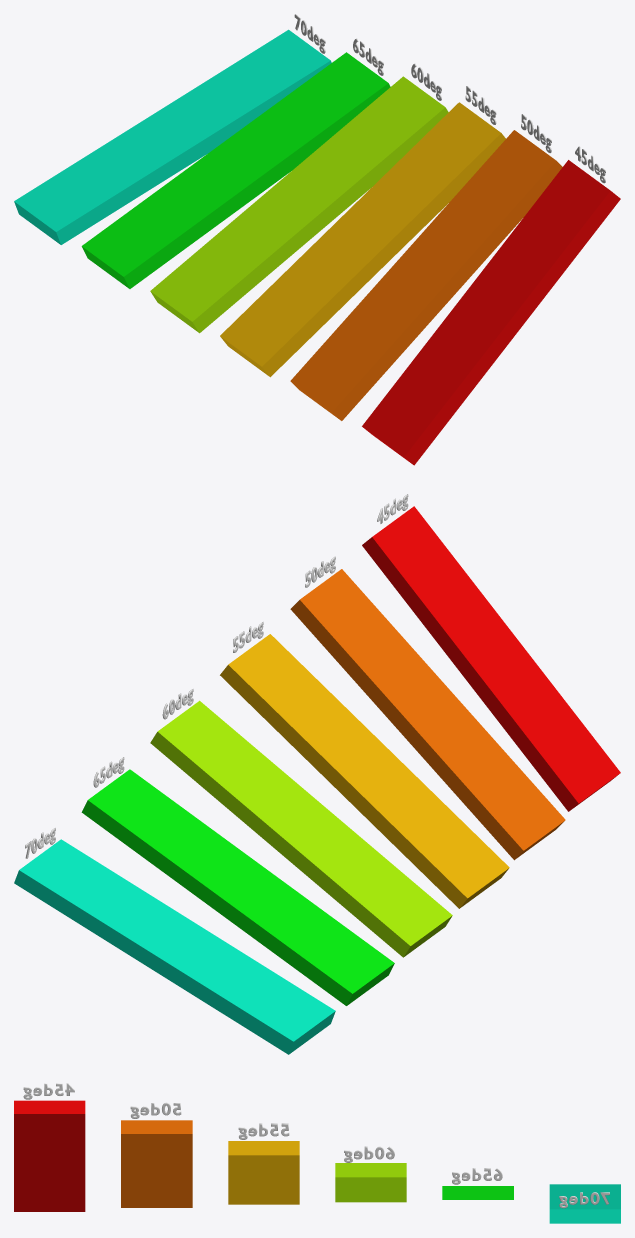
The model's file is Slopes.glb.
3 views of the same model, one above another, from view 1: azimuth 30°, elevation 25°; view 2: azimuth 150°, elevation 25°; view 3: azimuth 270°, elevation 25° (orthographic). The views are drawn at different scales.
Visible parts, largest first — view 1: 45 -col, 50 -col, 55 -col, 60 -col, 65 -col, 70 -col; view 2: 45 -col, 50 -col, 55 -col, 60 -col, 65 -col, 70 -col; view 3: 45 -col, 50 -col, 55 -col, 60 -col, 70 -col, 65 -col, 55t, 60t, 50t, 45t, 65t, 70t.
Part boxes in pixels (box(x1,y1,x2,y2)): 45 -col: box(362, 160, 620, 465); 50 -col: box(290, 130, 562, 420); 55 -col: box(220, 102, 505, 377); 60 -col: box(150, 76, 448, 333); 65 -col: box(81, 52, 390, 288); 70 -col: box(14, 29, 331, 244); 45 -col: box(362, 506, 620, 811); 50 -col: box(290, 569, 565, 860); 55 -col: box(220, 634, 509, 908); 60 -col: box(150, 700, 452, 957); 65 -col: box(81, 769, 394, 1005); 70 -col: box(14, 839, 335, 1054); 45 -col: box(14, 1100, 85, 1211); 50 -col: box(121, 1120, 192, 1207); 55 -col: box(228, 1141, 299, 1204); 60 -col: box(335, 1163, 406, 1202); 70 -col: box(549, 1184, 620, 1223); 65 -col: box(442, 1186, 513, 1199); 55t: box(238, 1123, 289, 1139); 60t: box(344, 1146, 394, 1162); 50t: box(130, 1102, 181, 1118); 45t: box(23, 1083, 74, 1099); 65t: box(452, 1168, 502, 1184); 70t: box(559, 1192, 609, 1208).
Size of the model in its own units: 15.31 by 13.08 by 34.
